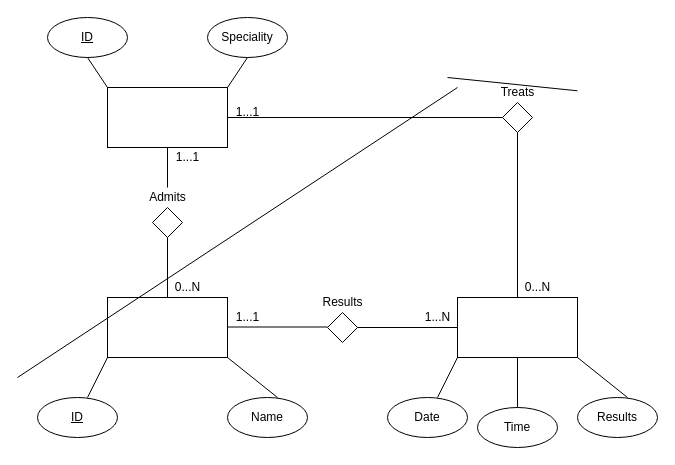
This 675x465 diagram has some shape labels left out. Here are the shapes that lost their labels. From the top down, the centre of each, then its label:
At (x=167, y=117): "PHYSICIAN".
At (x=167, y=327): "PATIENT".
At (x=517, y=327): "TREATMENT DETAIL".
